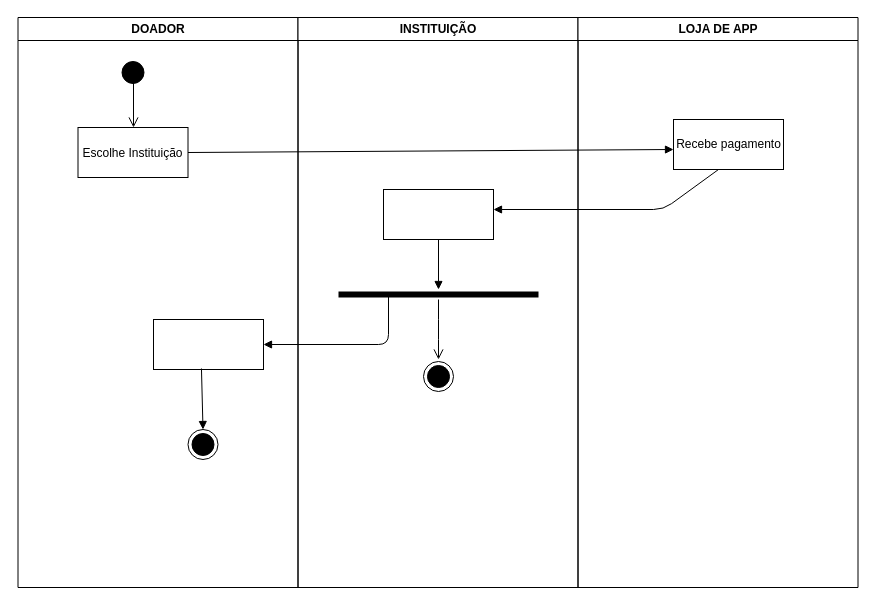
This 875x605 diagram has some shape labels left out. The shapes that lost their labels are listed below. From the top down, each one's centre as x and y in pixels, then its label:
the point at 438,214: Recebe doação
the point at 208,344: Acompanha doação
